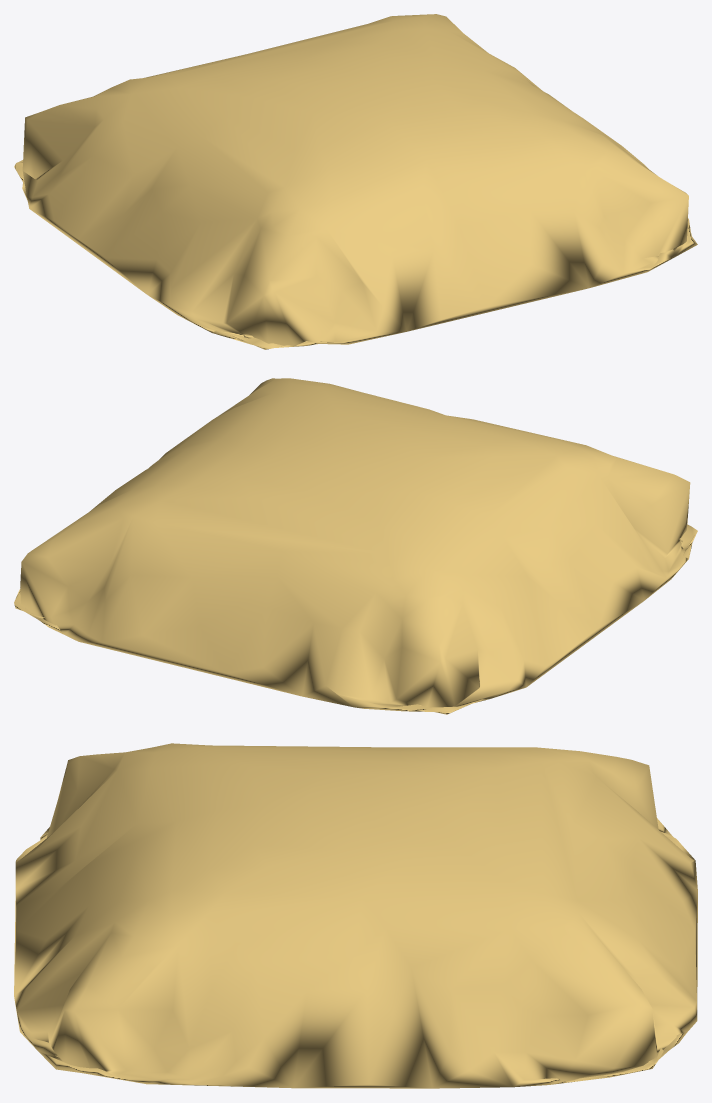
Rendered from fall_cushion.fbx.
The picture shows the model from 3 angles, top to bottom: view 1: azimuth 30°, elevation 25°; view 2: azimuth 150°, elevation 25°; view 3: azimuth 270°, elevation 25°; orthographic projection. The views are drawn at different scales.
Parts seen in each view (by area): view 1: Cube; view 2: Cube; view 3: Cube.
Boxes of the visible parts, x1,y1,x2,y2 form: Cube: (14, 14, 697, 349); Cube: (14, 378, 697, 714); Cube: (14, 743, 697, 1088).
Size of the model in its own units: 228 by 51.89 by 228.
